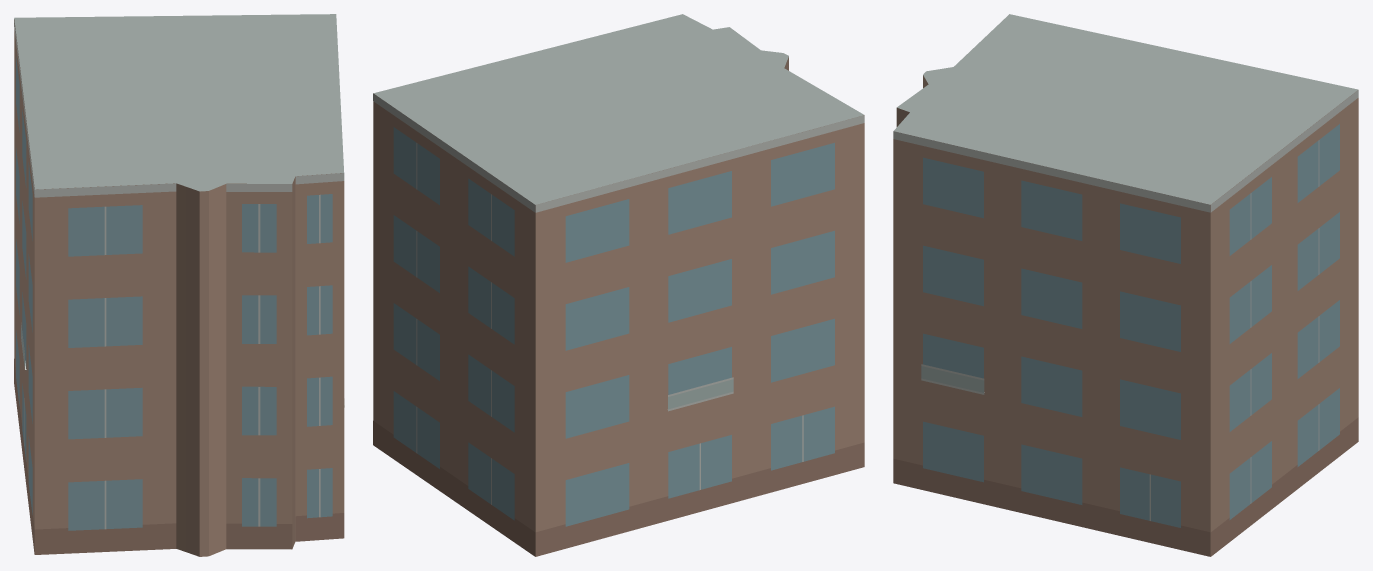
File: survey-upis-32724568.glb
The picture shows the model from 3 angles, left to right: view 1: azimuth 30°, elevation 25°; view 2: azimuth 150°, elevation 25°; view 3: azimuth 270°, elevation 25°; orthographic projection. The views are drawn at different scales.
Visible parts, largest first — view 1: survey-upis-32724568.tmp; view 2: survey-upis-32724568.tmp; view 3: survey-upis-32724568.tmp.
Boxes of the visible parts, x1,y1,x2,y2 form: survey-upis-32724568.tmp: (14,14,344,556); survey-upis-32724568.tmp: (373,14,864,556); survey-upis-32724568.tmp: (893,14,1358,556).
Bounding box in the file's own units: 12.68 × 10.9 × 13.06.
